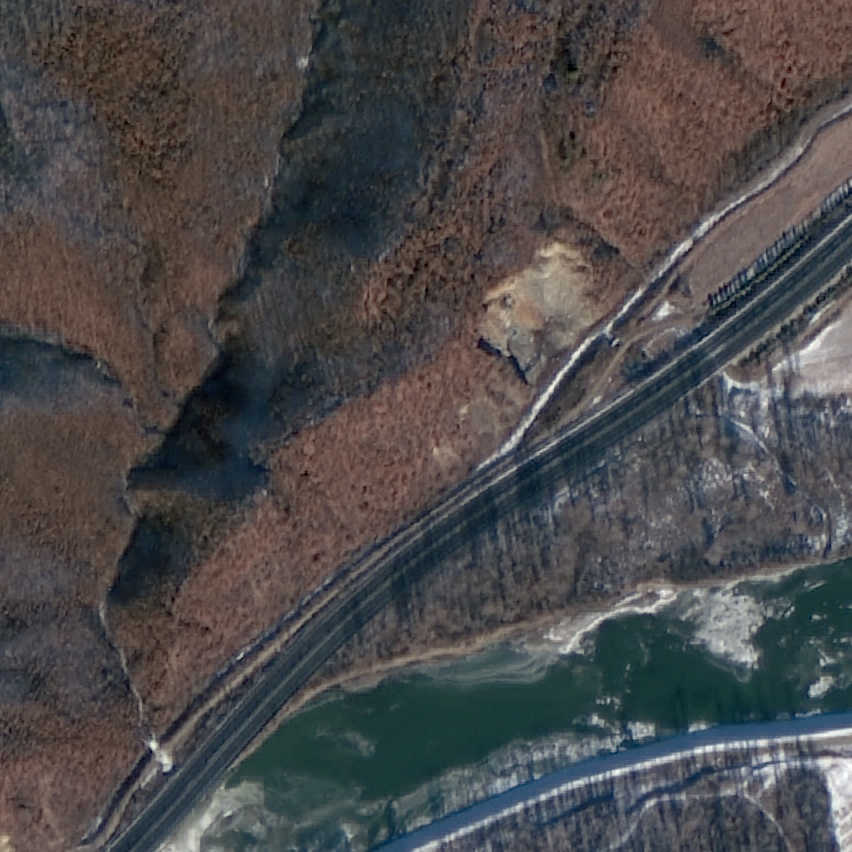slope: (476, 237, 603, 385), (680, 581, 772, 666)
